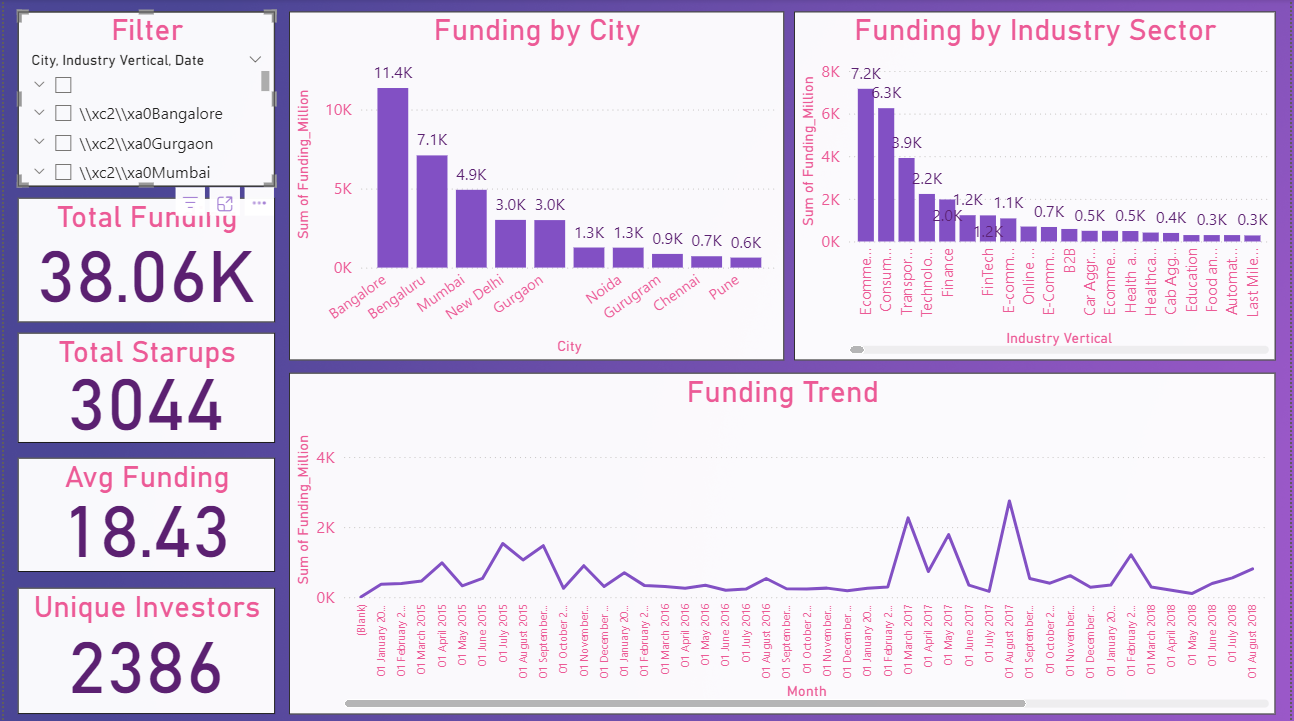

The page's visual inventory and layout, read from the dashboard file:
{"tool":"powerbi","page":{"name":"Page 1","canvas":[1280,720],"ordinal":0},"visuals":[{"type":"card","title":"    Total Funding","fields":{"Values":["Sum(cleaned_startup_data.Funding_Million)"]},"box":[13.7,197.8,256.3,124.4],"z":0},{"type":"card","title":"Total Starups","fields":{"Values":["CountNonNull(cleaned_startup_data.Startup Name)"]},"box":[13.7,332.1,256.3,109.5],"z":1000},{"type":"card","title":"Avg Funding","fields":{"Values":["Avg(cleaned_startup_data.Funding_Million)"]},"box":[13.7,456.5,256.3,113.2],"z":2000},{"type":"card","title":"Unique Investors","fields":{"Values":["Count(cleaned_startup_data.Investors Name)"]},"box":[13.7,585.9,256.3,125.6],"z":3000},{"type":"clusteredColumnChart","title":"Funding by City","fields":{"Category":["cleaned_startup_data.City"],"Y":["Sum(cleaned_startup_data.Funding_Million)"]},"box":[283.6,12.4,492.6,347.1],"z":4000},{"type":"clusteredColumnChart","title":"Funding by Industry Sector","fields":{"Category":["cleaned_startup_data.Industry Vertical"],"Y":["Sum(cleaned_startup_data.Funding_Million)"]},"box":[786.2,12.4,478.9,347.1],"z":5000},{"type":"lineChart","title":"Funding Trend","fields":{"Y":["Sum(cleaned_startup_data.Funding_Million)"],"Category":["cleaned_startup_data.Month"]},"box":[283.6,371.9,981.5,339.6],"z":6000},{"type":"slicer","title":"Filter","fields":{"Values":["cleaned_startup_data.City","cleaned_startup_data.Industry Vertical","cleaned_startup_data.Date"]},"box":[13.7,12.4,256.3,174.2],"z":7000}]}

Visuals, with their boxes in screenshot pixels (x1, y1, x2, y2), scaled from the page's 1280x720 canvas onto the 1294x721 screenshot:
"    Total Funding" card: {"x1": 14, "y1": 198, "x2": 273, "y2": 323}
"Total Starups" card: {"x1": 14, "y1": 333, "x2": 273, "y2": 442}
"Avg Funding" card: {"x1": 14, "y1": 457, "x2": 273, "y2": 570}
"Unique Investors" card: {"x1": 14, "y1": 587, "x2": 273, "y2": 712}
"Funding by City" clusteredColumnChart: {"x1": 287, "y1": 12, "x2": 785, "y2": 360}
"Funding by Industry Sector" clusteredColumnChart: {"x1": 795, "y1": 12, "x2": 1279, "y2": 360}
"Funding Trend" lineChart: {"x1": 287, "y1": 372, "x2": 1279, "y2": 712}
"Filter" slicer: {"x1": 14, "y1": 12, "x2": 273, "y2": 187}
